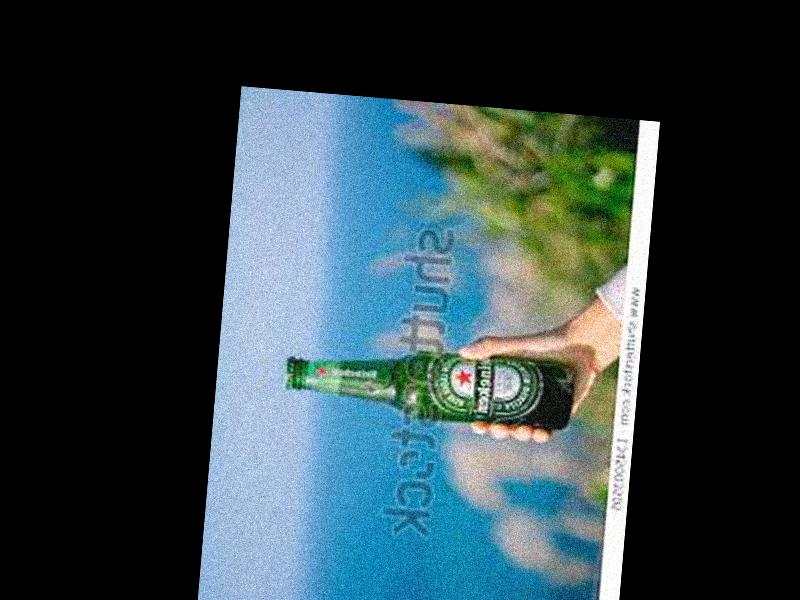Beer: (281, 337, 577, 431)
